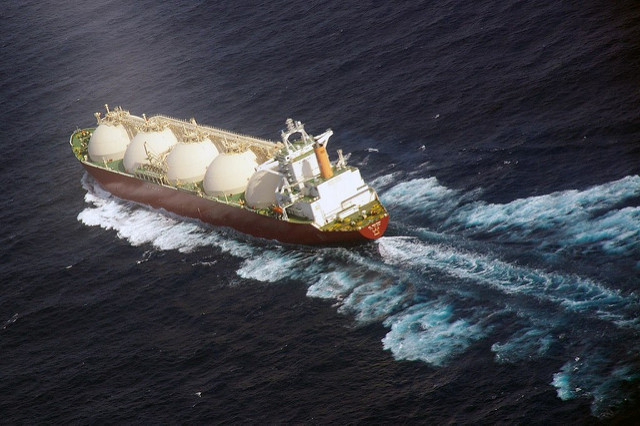LNG_ship: (62, 103, 390, 254)
